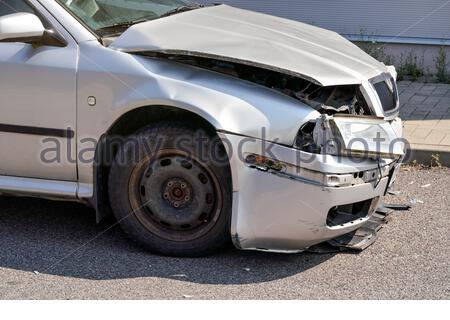bonnet-dent: (110, 40, 376, 117)
front-bumper-dent: (226, 151, 337, 252), (234, 160, 388, 198)
